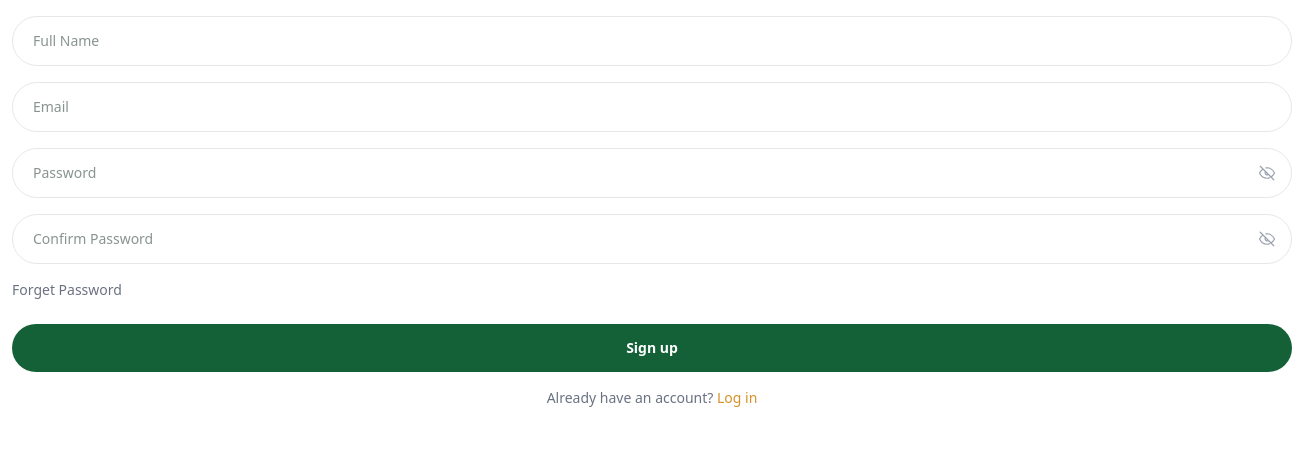
Scenario: SignUpForm › shows the server error message when signUp fails
Type "Jane Doe" into the field with placeholder "Full Name". click: (652, 41)
box: [12,16,1292,66]
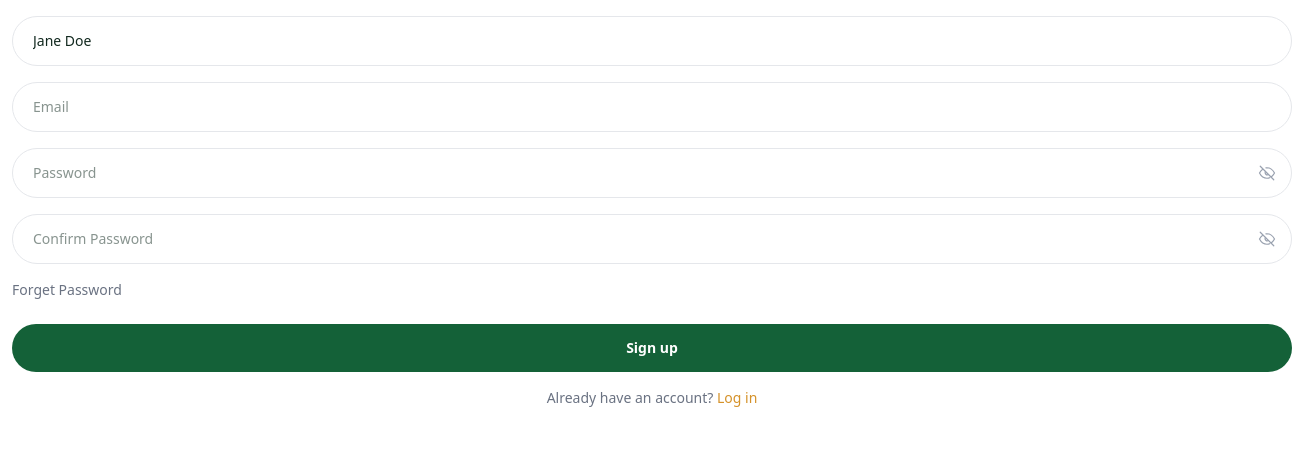
Type "jane@example.com" into the field with placeholder "Email". click: (652, 107)
box: [12,82,1292,132]
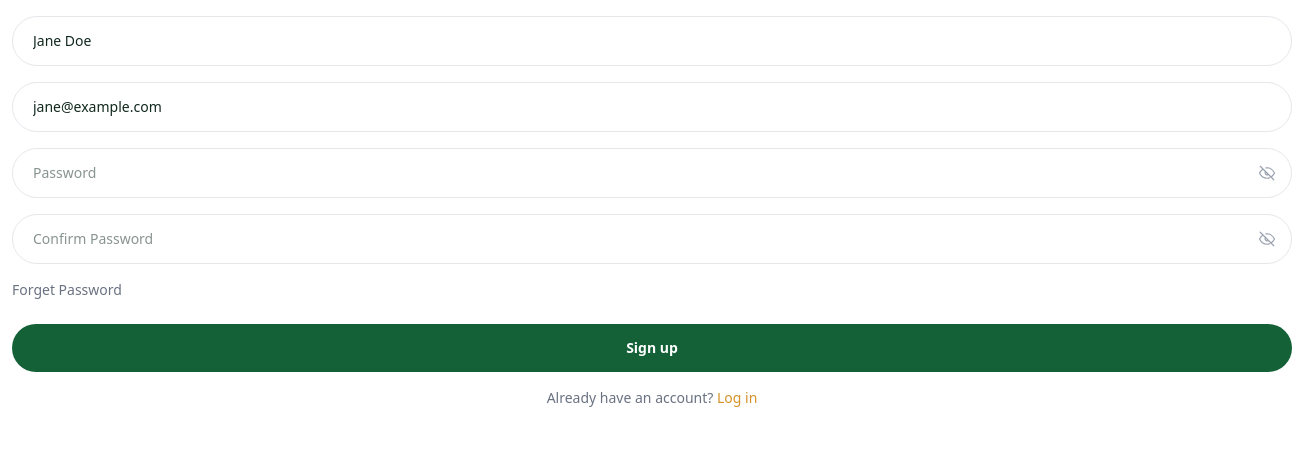
Type "Password1" into the password field with placeholder "Password". click: (652, 173)
box: [12,148,1292,198]
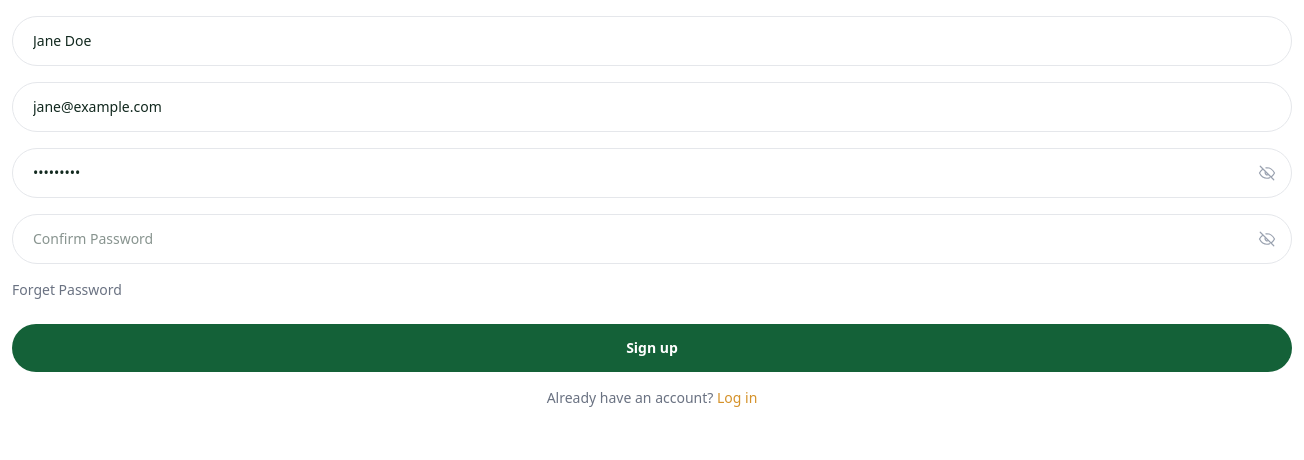
Type "Password1" into the password field with placeholder "Confirm Password". click: (652, 239)
box: [12,214,1292,264]
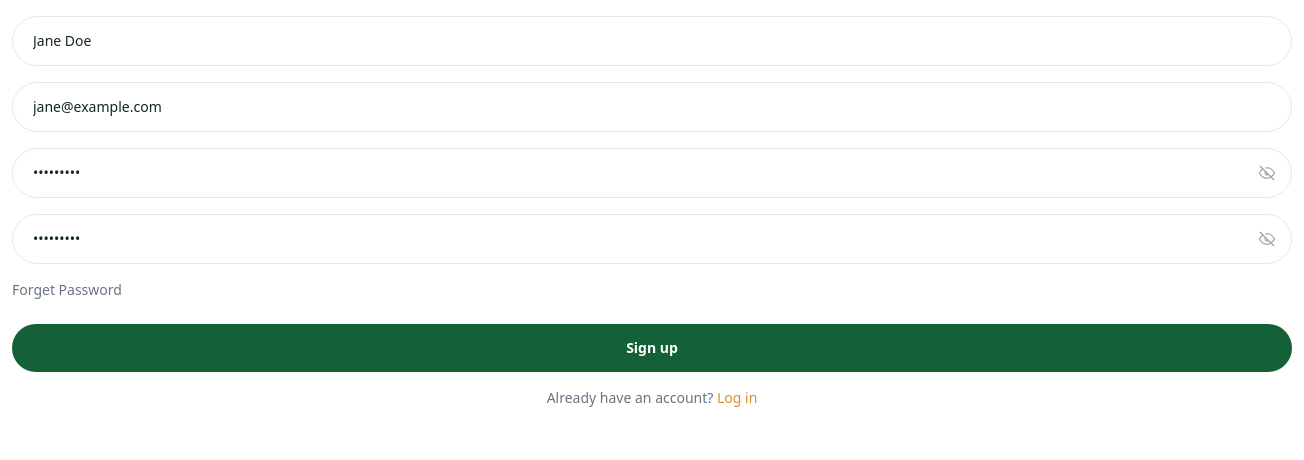
Click the button "Sign up". click: (652, 348)
box: [12,324,1292,372]
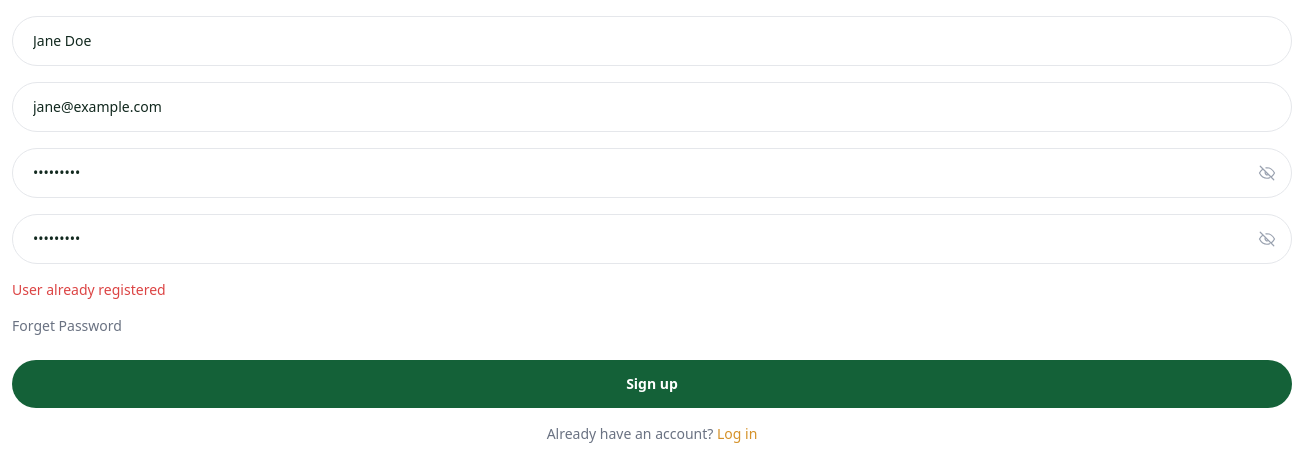
Result: the text "User already registered" is shown at [12,280,166,299]
